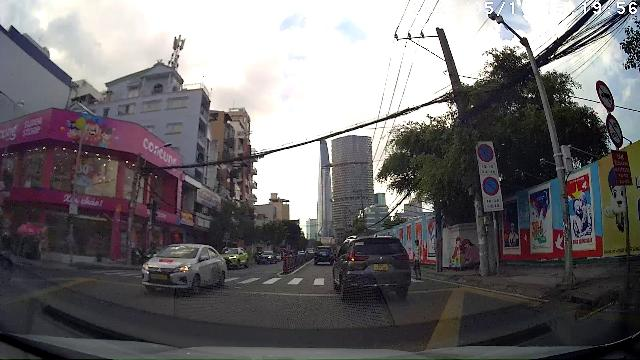130-cam-dung-va-do-xe: (477, 143, 494, 162)
131a-cam-do-xe: (482, 176, 499, 196)
